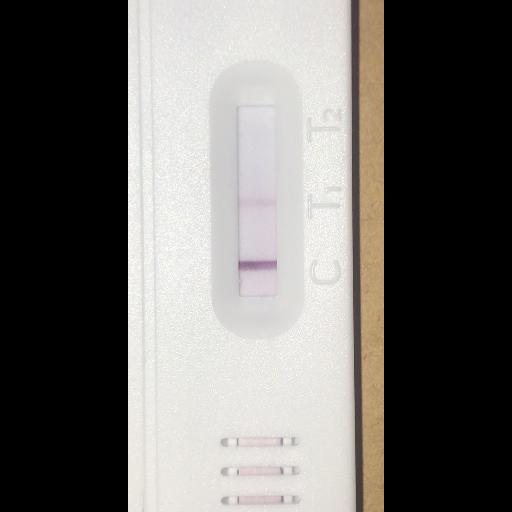Pos: (127, 0, 359, 511)
